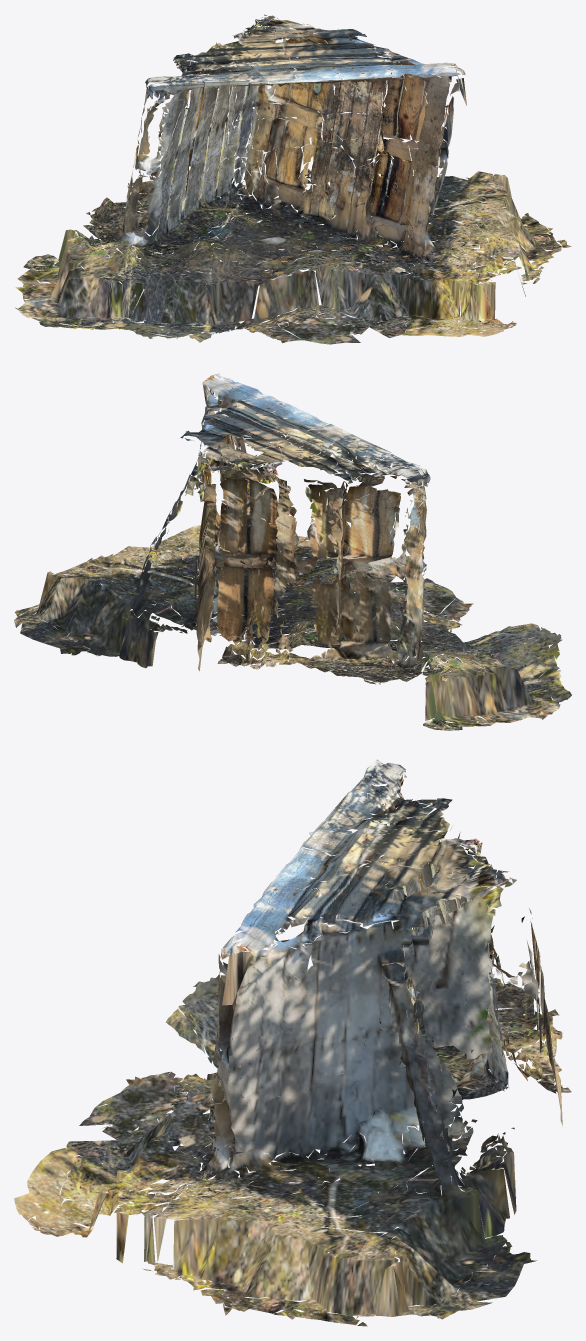
File: wooden_structure.glb
The picture shows the model from 3 angles, top to bottom: view 1: azimuth 30°, elevation 25°; view 2: azimuth 150°, elevation 25°; view 3: azimuth 270°, elevation 25°; orthographic projection. The views are drawn at different scales.
Visible parts, largest first — view 1: Mesh_0.001; view 2: Mesh_0.001; view 3: Mesh_0.001.
Boxes of the visible parts, x1,y1,x2,y2 form: Mesh_0.001: (14, 14, 571, 344); Mesh_0.001: (14, 373, 571, 730); Mesh_0.001: (14, 759, 571, 1326).
Bounding box in the file's own units: 3.2 × 1.34 × 2.17.
1 material, 1 textured.
